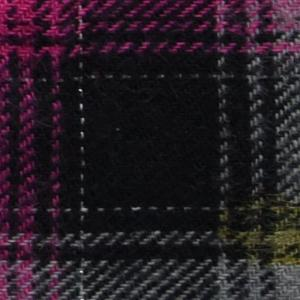Stain: (206, 189, 300, 271)
